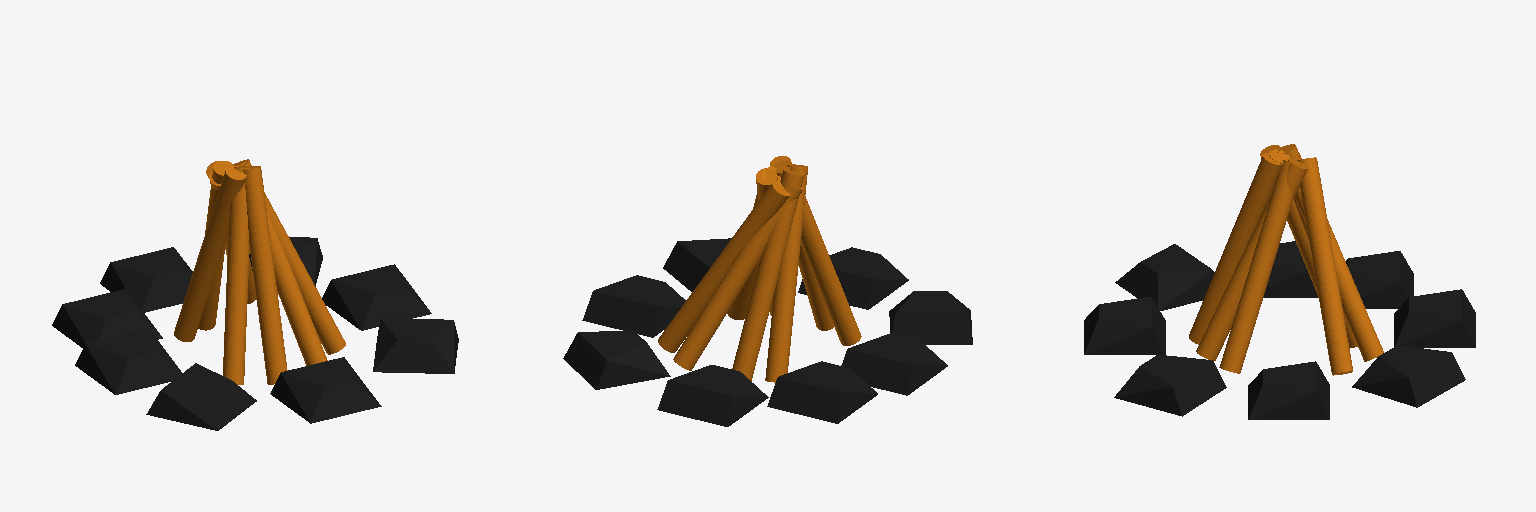
File: tuz.obj
3 views of the same model, side by side, from view 1: azimuth 30°, elevation 25°; view 2: azimuth 150°, elevation 25°; view 3: azimuth 270°, elevation 25° (orthographic).
Visible parts, largest first — view 1: Cube_Cube.062; view 2: Cube_Cube.062; view 3: Cube_Cube.062.
Boxes of the visible parts, <box> form: Cube_Cube.062: <box>52,159,458,430</box>; Cube_Cube.062: <box>563,156,972,426</box>; Cube_Cube.062: <box>1084,144,1475,419</box>.
Bounding box in the file's own units: 6.8 × 3.89 × 7.2.